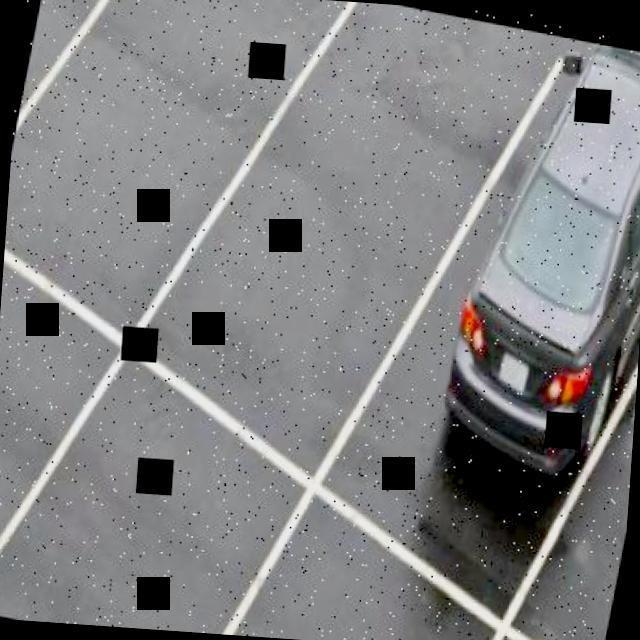empty: (250, 38, 464, 371), (39, 0, 245, 325), (53, 490, 216, 632), (290, 540, 465, 640), (20, 0, 68, 113), (0, 328, 18, 550)
occupied: (462, 33, 640, 460)
